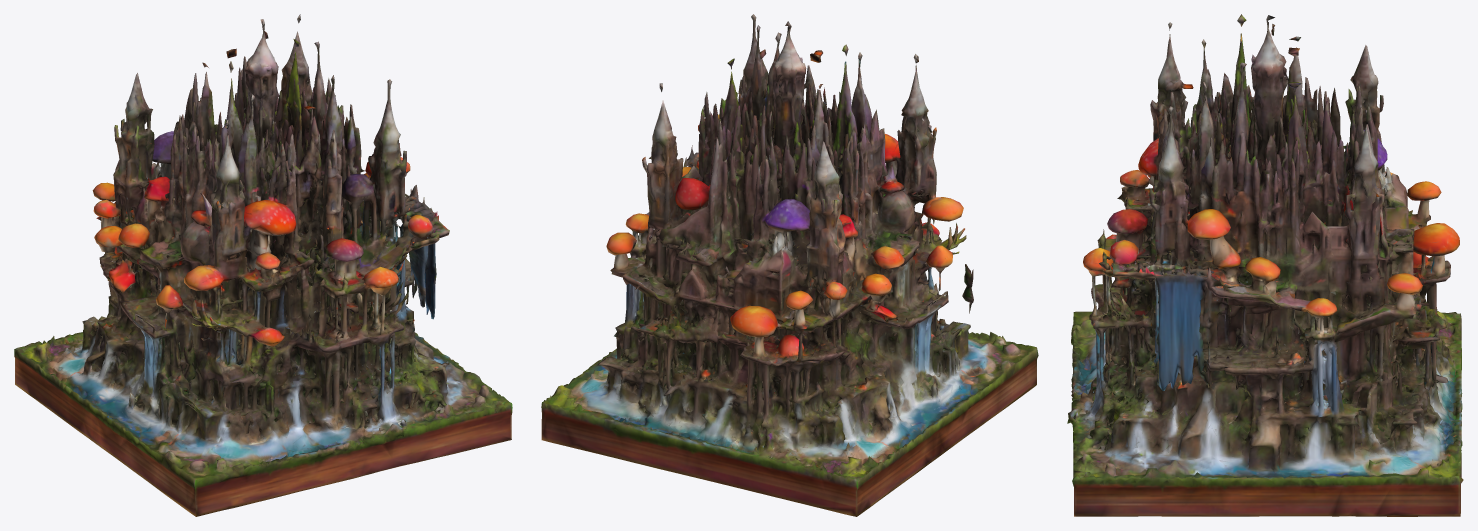
Rendered from Meshy_AI_Mushroom_Citadel_1017073806_texture.fbx.
3 views of the same model, side by side, from view 1: azimuth 30°, elevation 25°; view 2: azimuth 150°, elevation 25°; view 3: azimuth 270°, elevation 25° (orthographic). The views are drawn at different scales.
Parts seen in each view (by area): view 1: Mesh_0; view 2: Mesh_0; view 3: Mesh_0.
Boxes of the visible parts, x1,y1,x2,y2 form: Mesh_0: (14,14,512,516); Mesh_0: (541,14,1038,516); Mesh_0: (1067,14,1463,516).
Bounding box in the file's own units: 170 × 199 × 170.
1 material, 1 textured.
